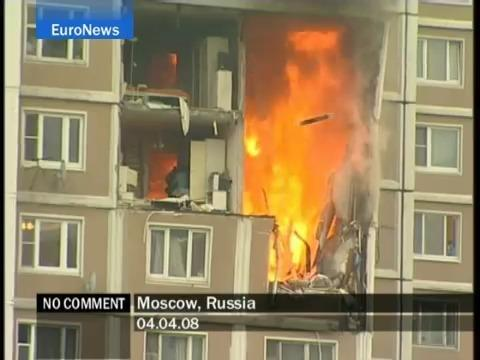fire: (241, 22, 368, 286), (148, 152, 176, 196), (168, 51, 178, 68)
